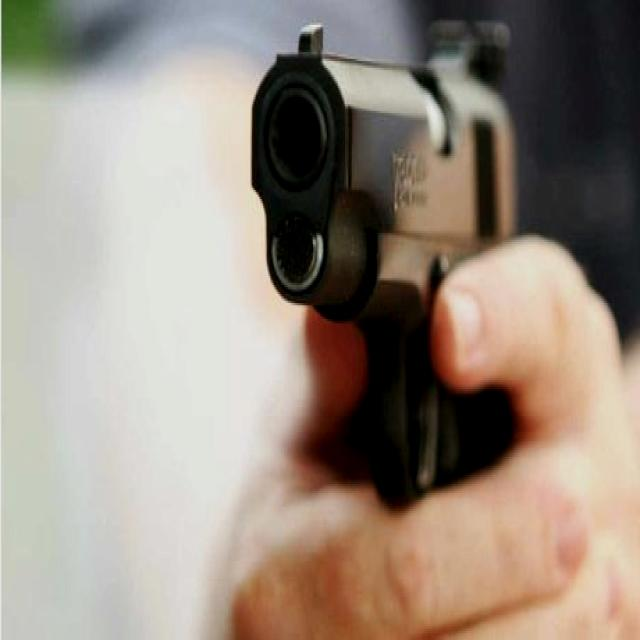pistol: (245, 14, 523, 522)
